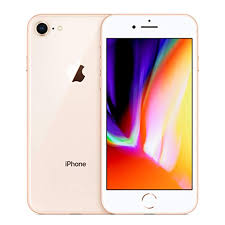iphone8: (96, 10, 201, 215), (23, 6, 99, 217)
